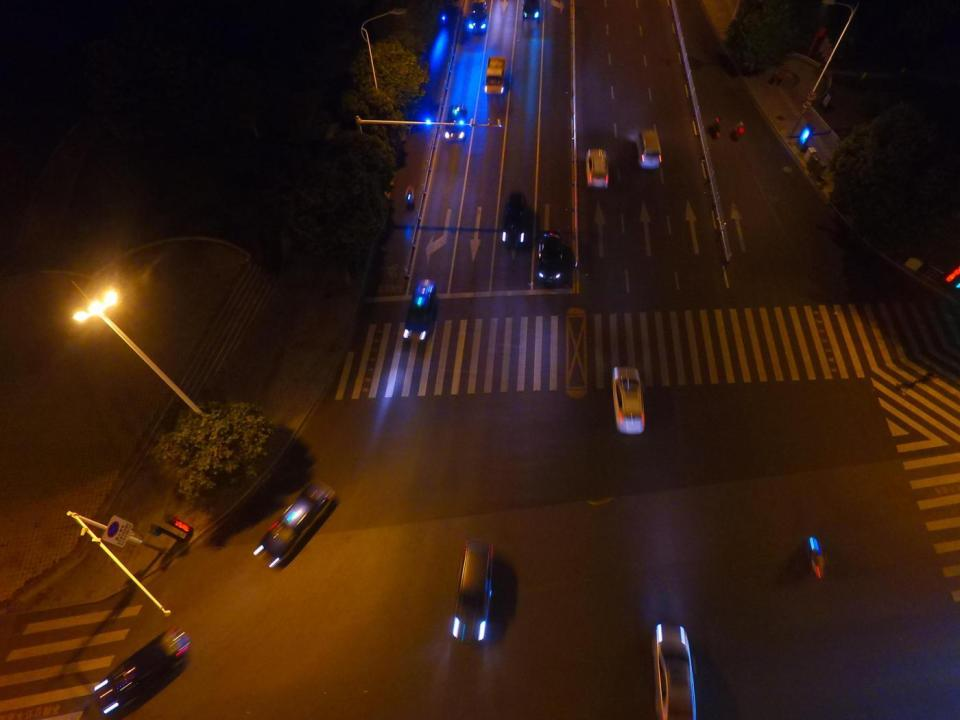car: (94, 628, 186, 713), (256, 483, 335, 568), (649, 624, 700, 720), (449, 542, 495, 642), (612, 367, 646, 435), (498, 190, 532, 252), (404, 278, 436, 343), (538, 232, 564, 284), (585, 146, 608, 187), (443, 104, 465, 141), (465, 0, 487, 35), (519, 0, 543, 21)
truck: (483, 55, 506, 95)
van: (638, 131, 661, 169)
